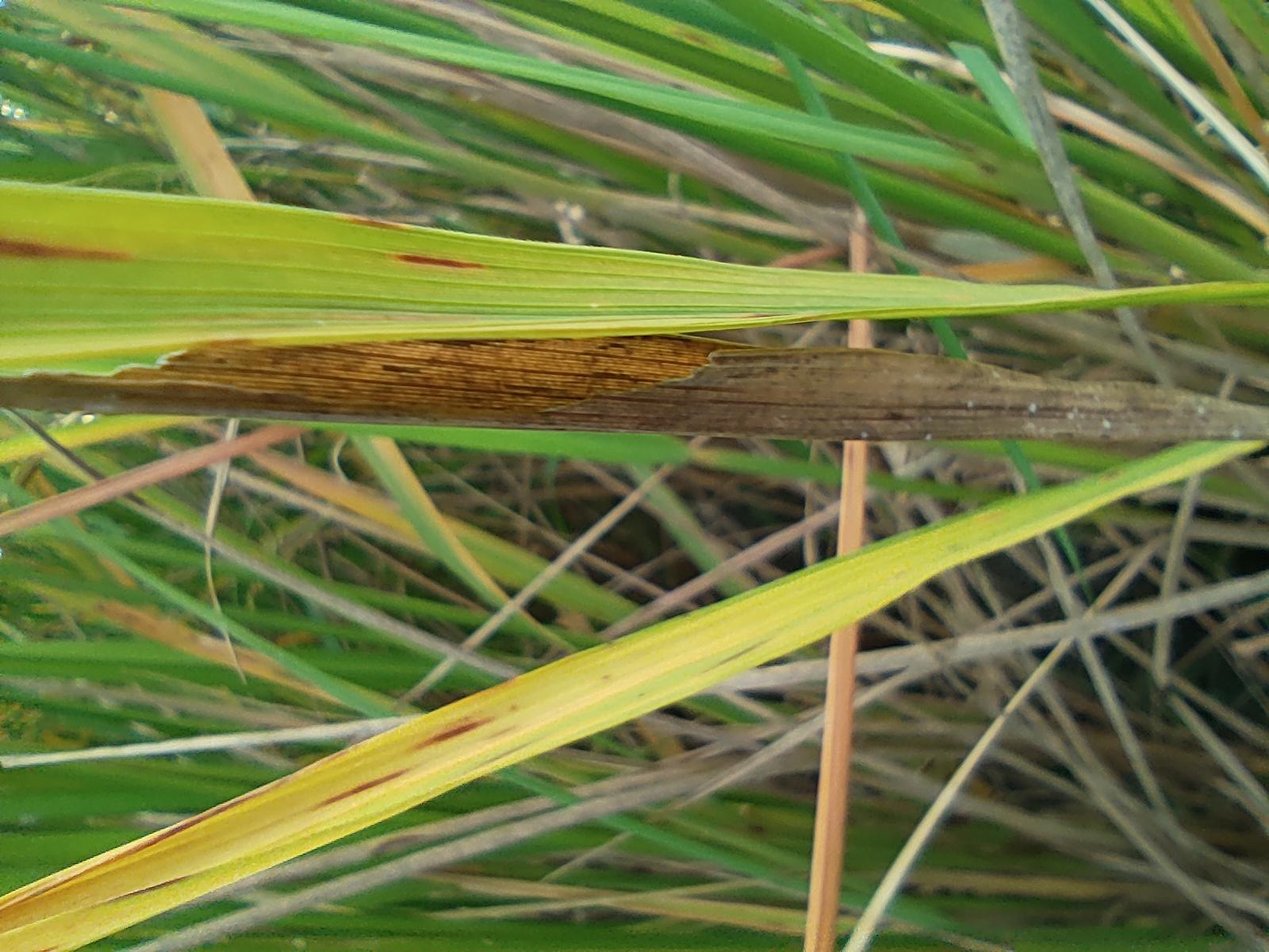LEAF: (768, 0, 1027, 951)
NBS: (920, 0, 953, 99), (910, 291, 932, 364), (961, 256, 979, 309)
